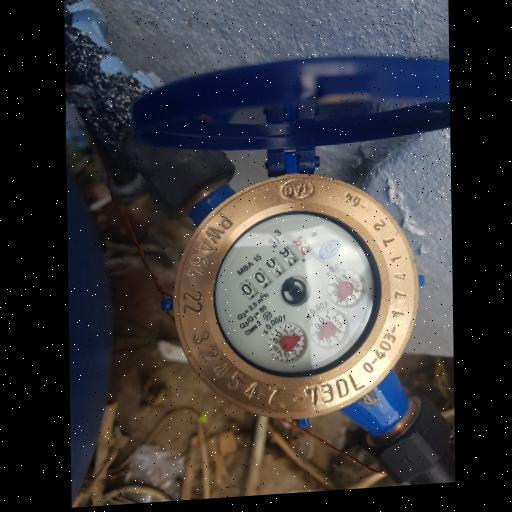0: (264, 254, 286, 280), (250, 267, 273, 291), (237, 278, 258, 302)
9: (278, 243, 300, 269), (291, 233, 313, 259)
border_water_meter_number: (234, 230, 316, 306)
